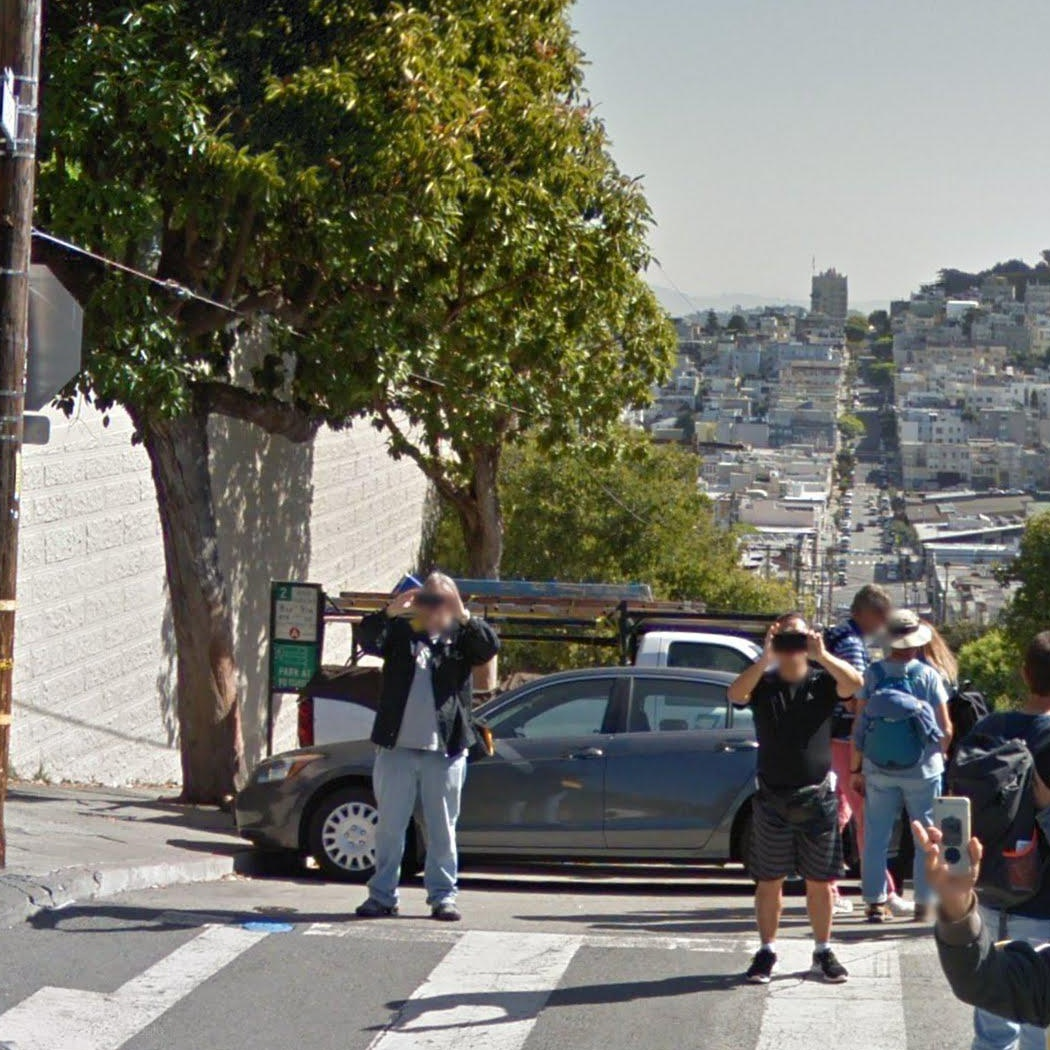2 Hour Parking: (273, 584, 321, 643)
